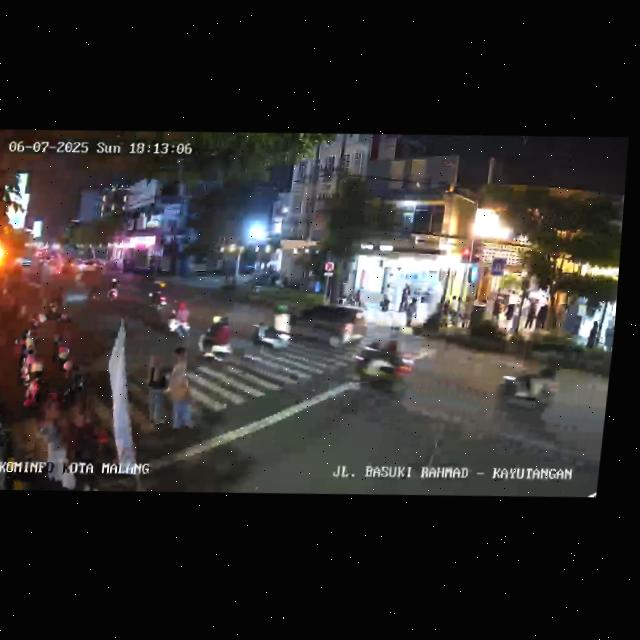car: (281, 300, 369, 350), (74, 256, 103, 272)
motorcycle: (345, 322, 418, 394), (494, 356, 564, 418), (192, 314, 240, 371), (250, 304, 295, 354), (164, 299, 194, 342), (145, 279, 170, 311), (106, 276, 123, 303)
person: (160, 357, 198, 436), (141, 353, 172, 426), (507, 299, 522, 336), (444, 295, 460, 327), (169, 345, 190, 368), (534, 301, 549, 331), (523, 298, 537, 330), (403, 297, 417, 328), (378, 282, 392, 312), (586, 320, 600, 348), (397, 284, 408, 312)
